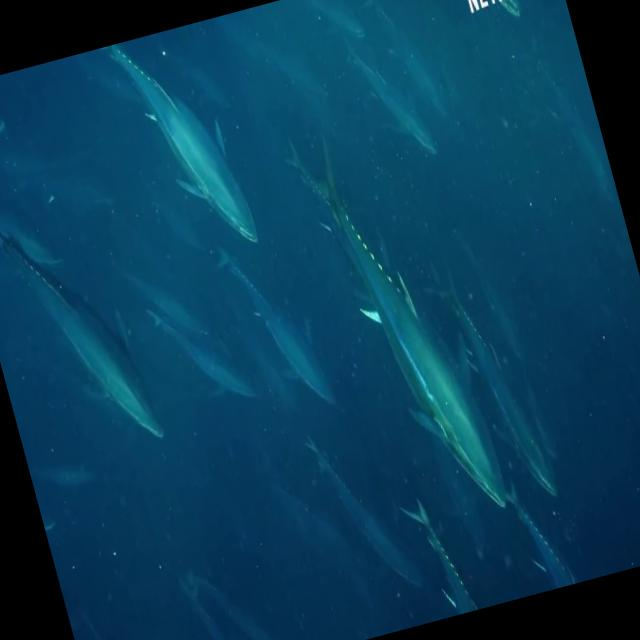fish: (294, 114, 518, 546), (0, 165, 178, 480), (97, 21, 258, 268), (205, 216, 346, 434), (440, 274, 565, 512), (308, 415, 438, 613), (382, 462, 487, 624), (144, 284, 263, 426), (345, 19, 447, 183), (102, 219, 222, 357), (490, 456, 582, 596), (0, 167, 66, 284), (297, 0, 377, 77), (459, 0, 540, 42), (0, 74, 21, 171)
